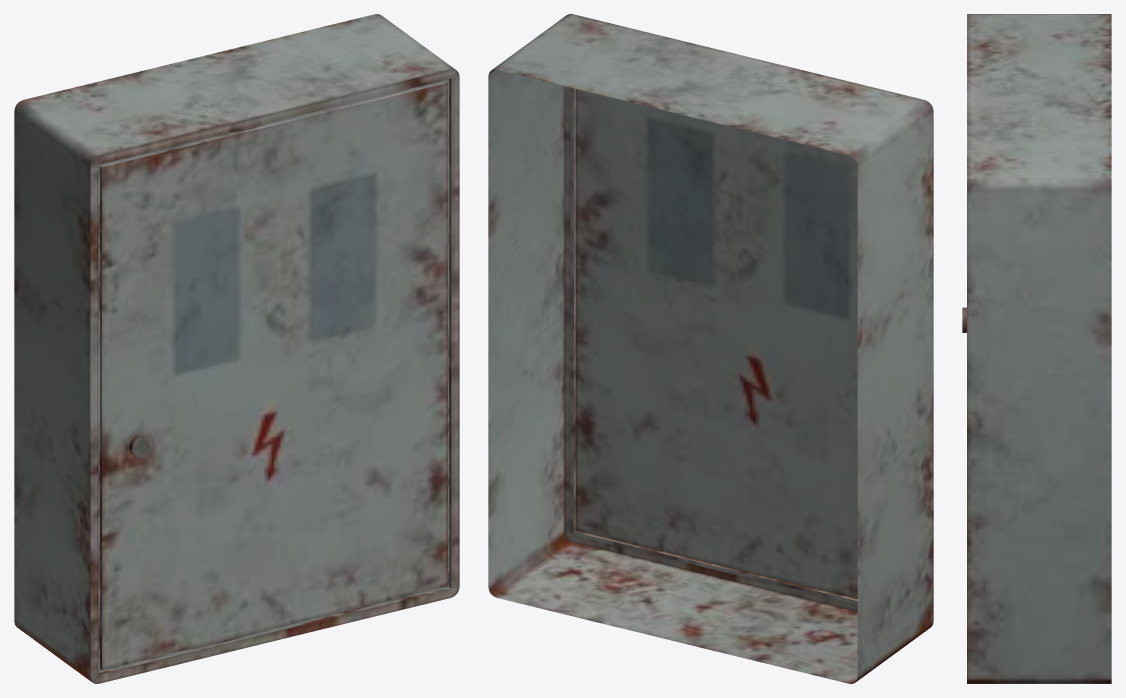
Rendered from cabinet.glb.
The picture shows the model from 3 angles, left to right: view 1: azimuth 30°, elevation 25°; view 2: azimuth 150°, elevation 25°; view 3: azimuth 270°, elevation 25°; orthographic projection. The views are drawn at different scales.
Parts seen in each view (by area): view 1: el_ormar_el_ormar_0; view 2: el_ormar_el_ormar_0; view 3: el_ormar_el_ormar_0.
Part boxes in pixels (<box>): el_ormar_el_ormar_0: <box>14,14,459,683</box>; el_ormar_el_ormar_0: <box>488,14,933,683</box>; el_ormar_el_ormar_0: <box>962,14,1111,683</box>.
Bounding box in the file's own units: 0.4537 × 0.62 × 0.1667.
1 material, 1 textured.
